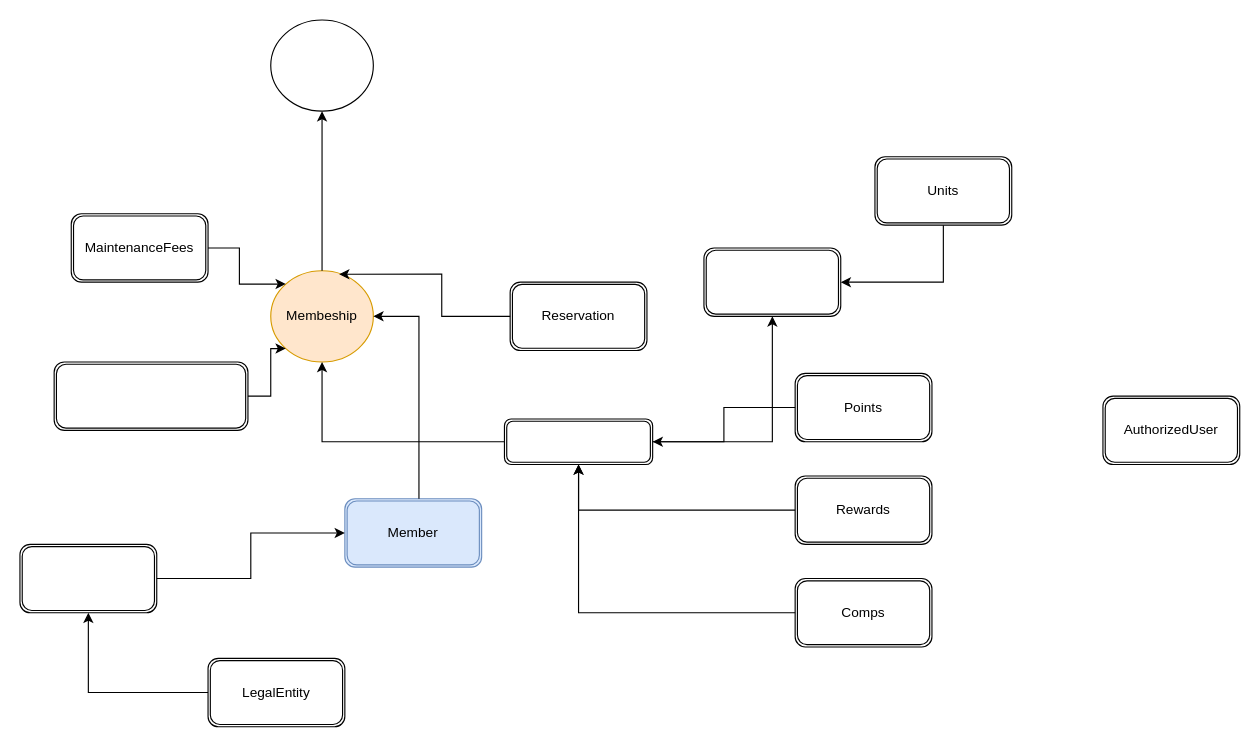
Image size: 1260x747. Some labels were removed from this diagram. The shapes that lost their labels are listed below. From the top down, each one's centre as x and y in pixels, then its label:
point 321,65: Club
point 772,281: Inventory
point 150,395: MembershipContactDetails
point 578,441: UsageRight
point 88,578: Contract
